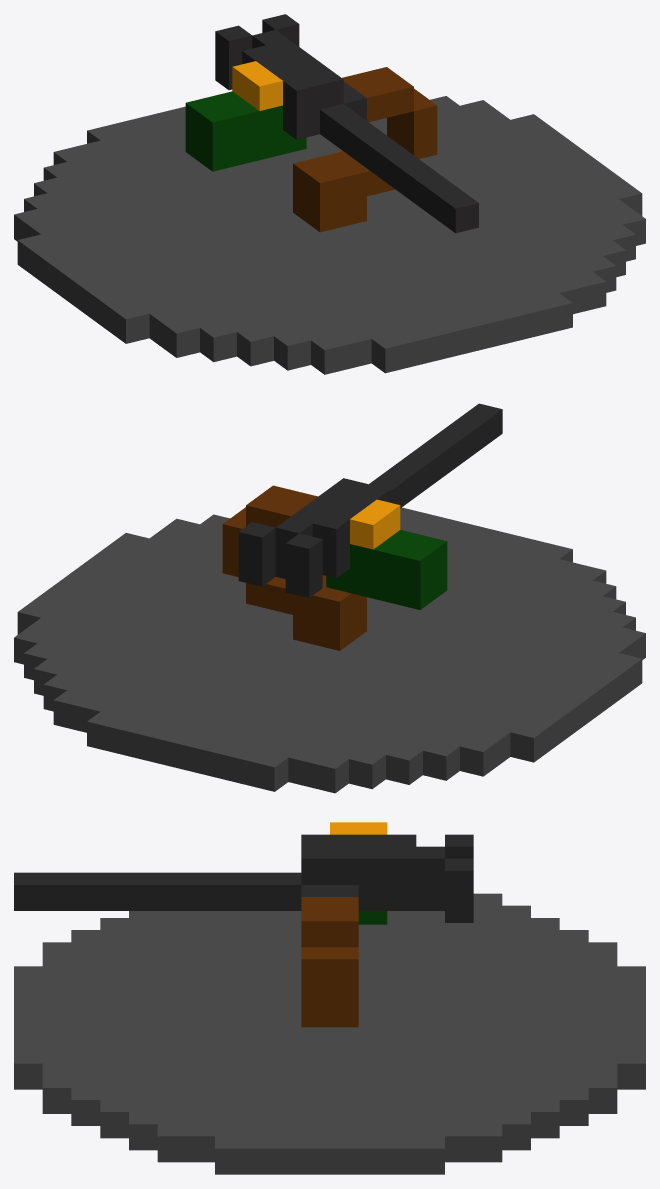
Rendered from machineGun.gltf.
The picture shows the model from 3 angles, top to bottom: view 1: azimuth 30°, elevation 25°; view 2: azimuth 150°, elevation 25°; view 3: azimuth 270°, elevation 25°; orthographic projection. The views are drawn at different scales.
Parts seen in each view (by area): view 1: machineGun; view 2: machineGun; view 3: machineGun.
Boxes of the visible parts, bbox=[...] form: machineGun: bbox=[14, 14, 645, 374]; machineGun: bbox=[14, 403, 645, 793]; machineGun: bbox=[14, 822, 645, 1174].
Size of the model in its own units: 22 by 7 by 22.
Materials: 2 (2 with a texture image).
